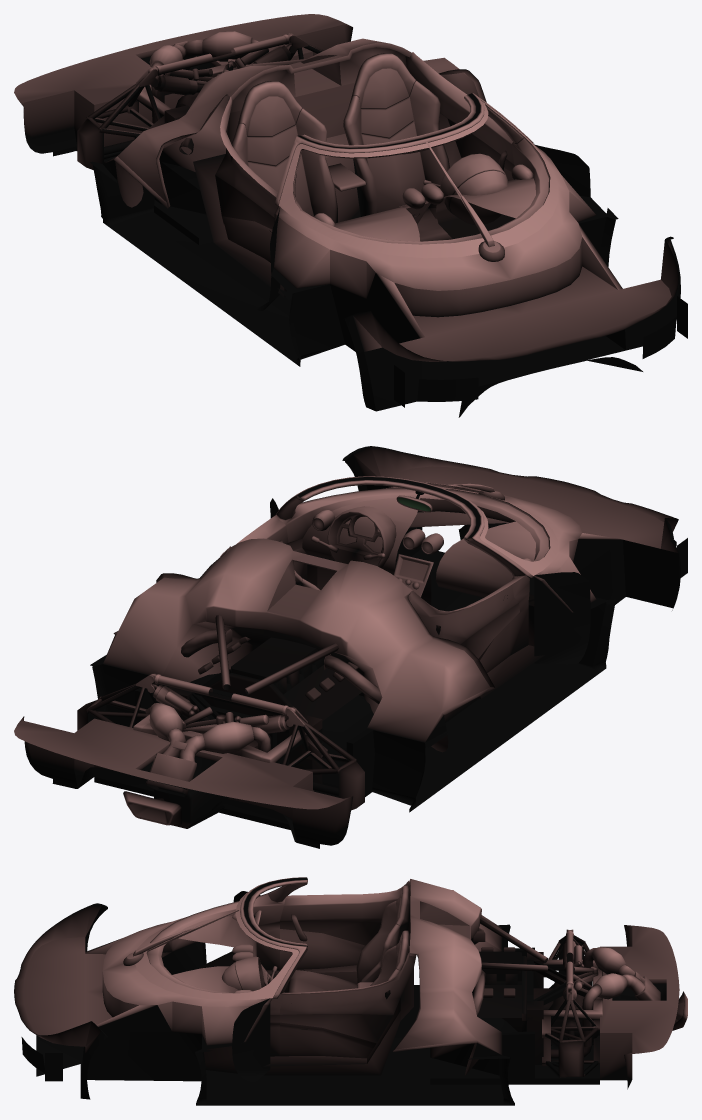
Rendered from Agera_Chassis_Trim.fbx.
The picture shows the model from 3 angles, top to bottom: view 1: azimuth 30°, elevation 25°; view 2: azimuth 150°, elevation 25°; view 3: azimuth 270°, elevation 25°; orthographic projection. The views are drawn at different scales.
Visible parts, largest first — view 1: Agera_Chassis_Trim; view 2: Agera_Chassis_Trim; view 3: Agera_Chassis_Trim.
Boxes of the visible parts, bbox=[...] form: Agera_Chassis_Trim: bbox=[14, 14, 687, 417]; Agera_Chassis_Trim: bbox=[14, 446, 687, 848]; Agera_Chassis_Trim: bbox=[14, 877, 687, 1105].
Bounding box in the file's own units: 199 × 98.9 × 423.
